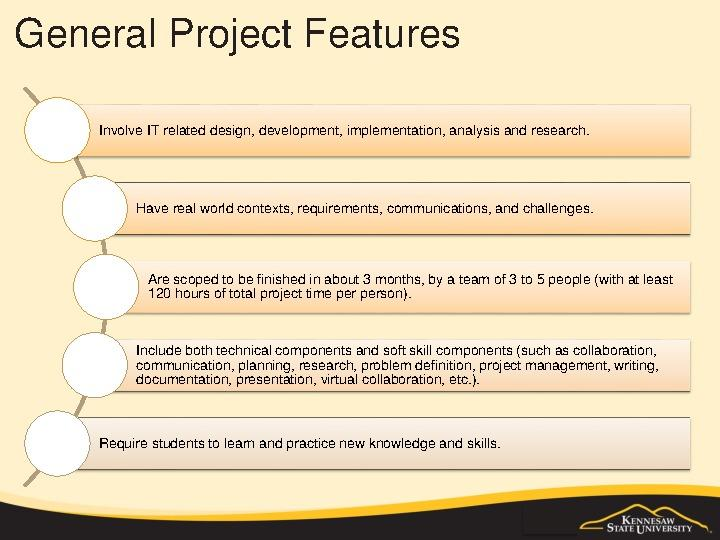paragraph: (23, 80, 704, 484)
subtitle: (8, 9, 467, 65)
